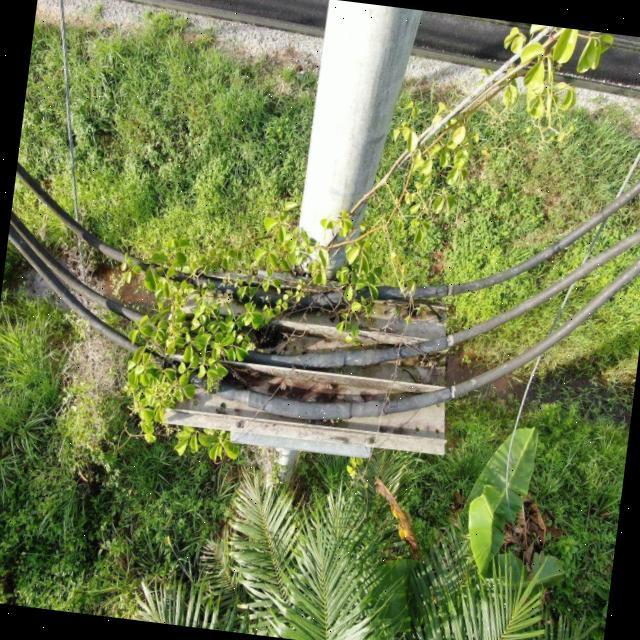critical vegetation: (114, 174, 481, 499)
